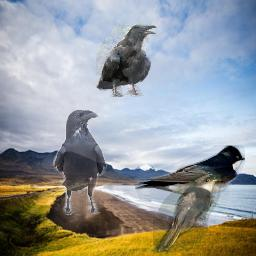Crow: (53, 109, 107, 215), (96, 24, 157, 97)
Cuckoo: (153, 174, 221, 254)
Swallow: (135, 145, 245, 206)
